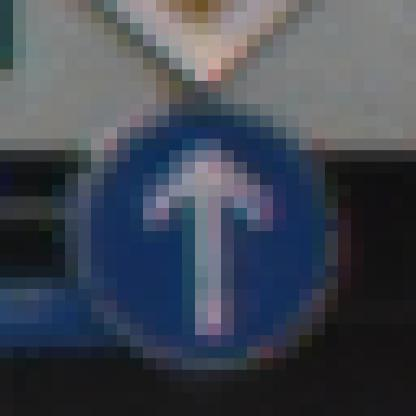AheadOnly: (66, 71, 352, 360)
